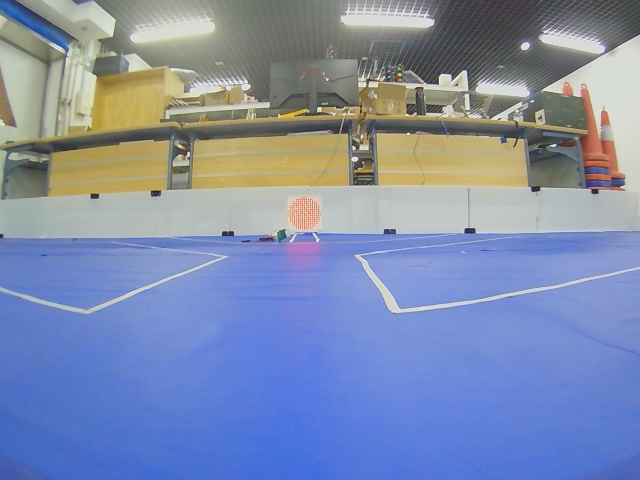red: (288, 196, 322, 231)
